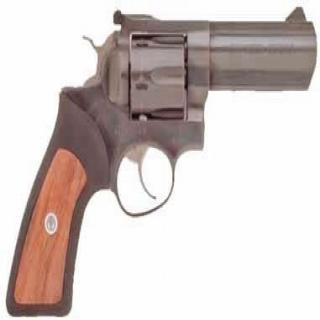gun: (10, 13, 318, 314)
